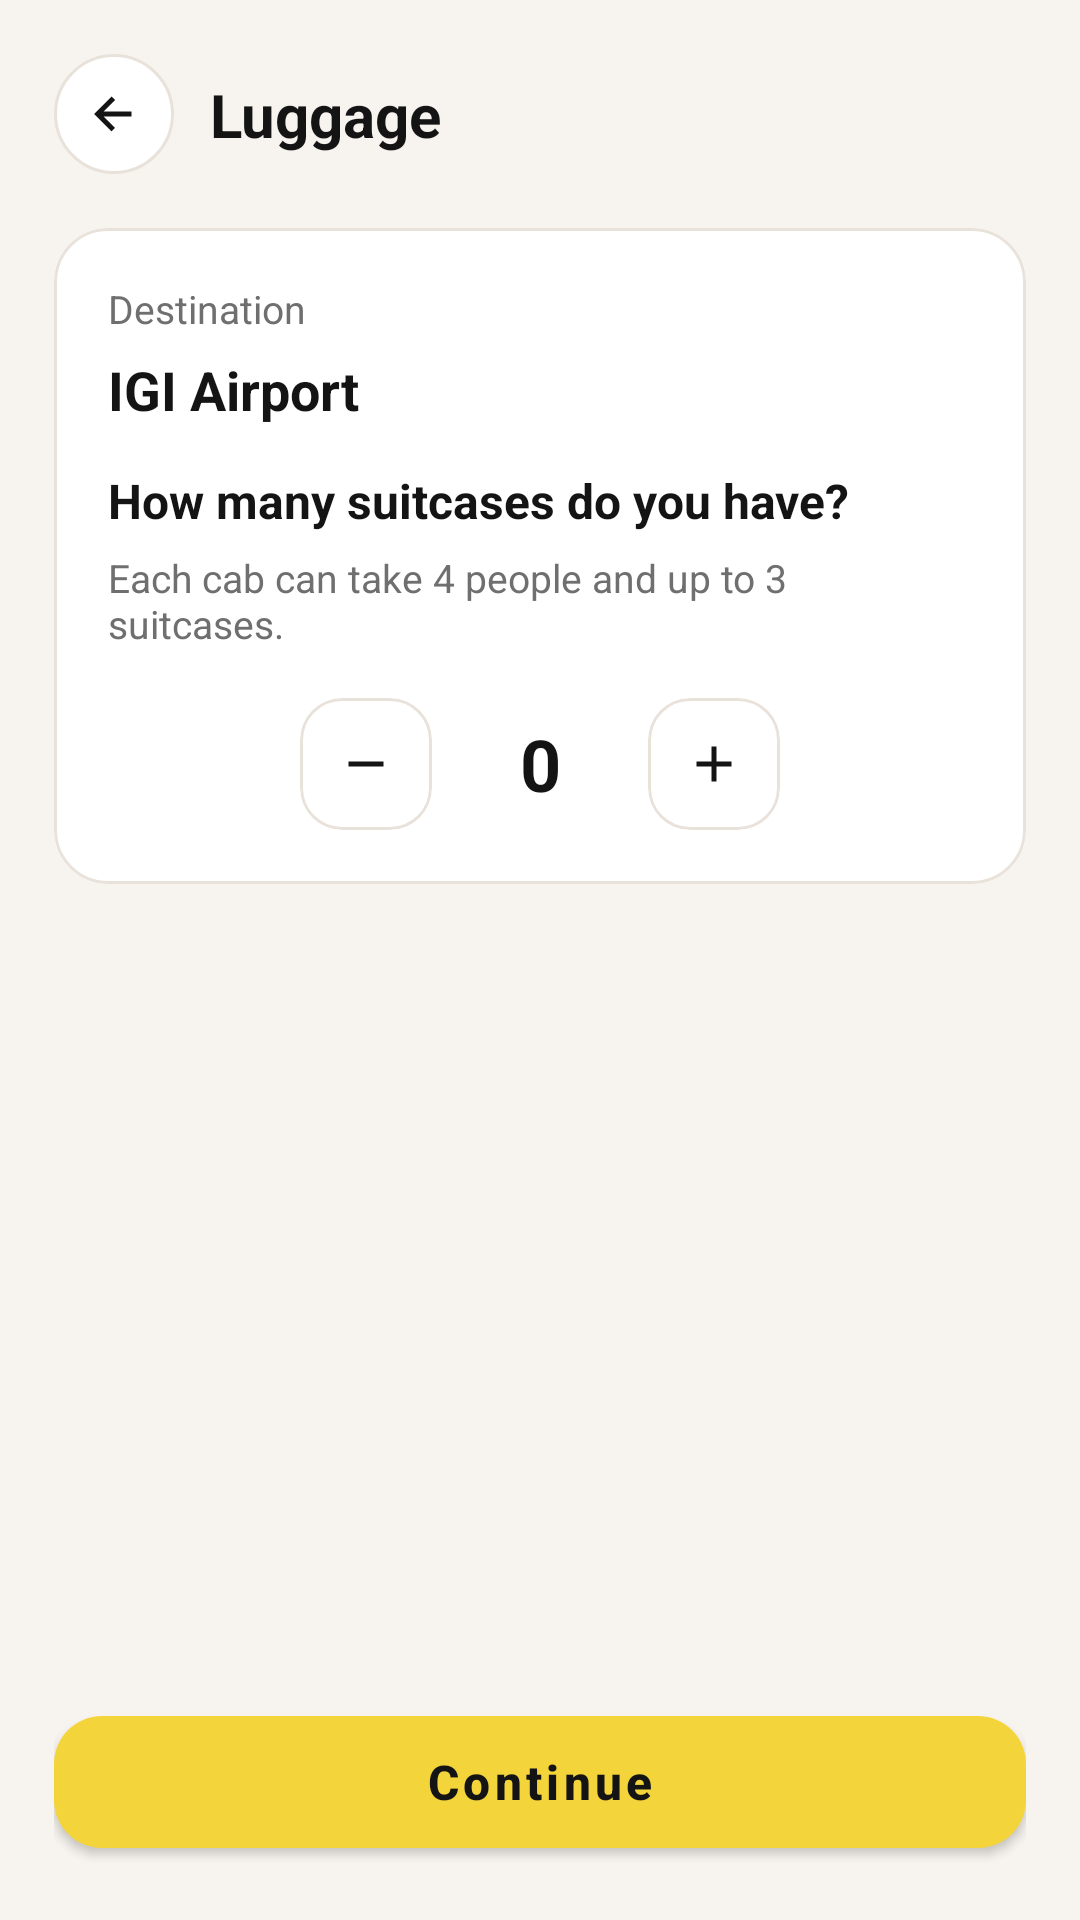

Screen size 1080×1920. Icon name, then its center in pixels as (x,y):
back: (114,114)
minus: (366,764)
plus: (714,764)
